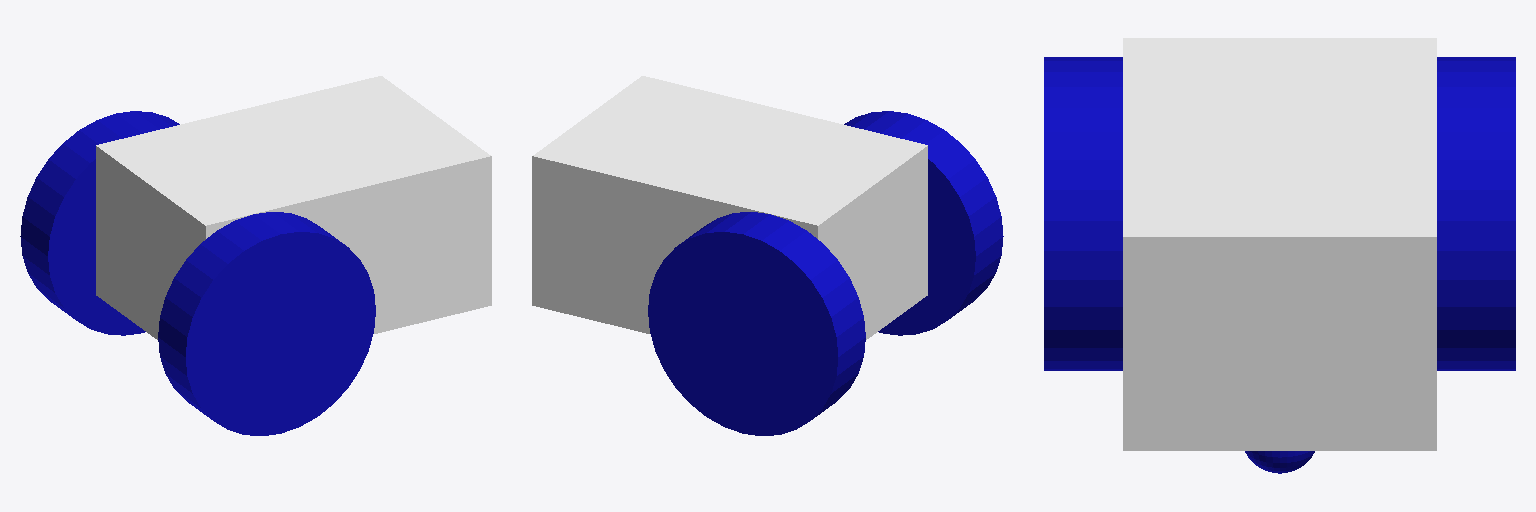
The robot description file, URDF, robot "gz_example_robot":
<robot name="gz_example_robot">

  <!-- LINKS -->
  <link name="base_link">
    <visual>
      <geometry>
        <box size="0.24 0.16 0.12"/>
      </geometry>
      <origin rpy="0 0 0" xyz="0.08 0 0"/>
      <material name="white">
        <color rgba="1 1 1 1"/>
      </material>
    </visual>
  </link>

  <link name="left_wheel">
    <visual>
      <geometry>
        <cylinder length="0.04" radius="0.08" />/>
      </geometry>
      <origin rpy="0 0 0" xyz="0 0 0.02"/>
      <material name="blue">
        <color rgba="0.1 0.1 0.8 1"/>
      </material>
    </visual>
  </link>

  <link name="right_wheel">
    <visual>
      <geometry>
        <cylinder length="0.04" radius="0.08" />/>
      </geometry>
      <origin rpy="0 0 0" xyz="0 0 -0.02"/>
      <material name="blue">
        <color rgba="0.1 0.1 0.8 1"/>
      </material>
    </visual>
  </link>

  <link name="front_wheel">
    <visual>
      <geometry>
        <sphere radius="0.02" />/>
      </geometry>
      <origin rpy="0 0 0" xyz="0 0 0"/>
      <material name="blue">
        <color rgba="0.1 0.1 0.8 1"/>
      </material>
    </visual>
  </link>

  <link name="chassis_link">
  <!-- Convenient place to reference sensors to -->
  </link>    

  <!-- JOINTS -->  
    <joint name="left_wheel_joint" type="continuous">
    <parent link="base_link"/>
    <child link="left_wheel"/>
    <origin xyz="0 0.08 -0.02" rpy="-1.5708 0 0"/>
    <axis xyz="0 0 1"/>
  </joint>

  <joint name="right_wheel_joint" type="continuous">
    <parent link="base_link"/>
    <child link="right_wheel"/>
    <origin xyz="0 -0.08 -0.02" rpy="-1.5708 0 0"/>
    <axis xyz="0 0 1"/>
  </joint>

  <joint name="front_wheel_joint" type="fixed">
    <parent link="base_link"/>
    <child link="front_wheel"/>
    <origin xyz="0.18 0 -0.06" rpy="0 0 0"/>
  </joint>

  <joint name="chassis_joint" type="fixed">
    <parent link="base_link"/>
    <child link="chassis_link"/>
    <origin xyz="0.08 0 0.06" rpy="0 0 0"/>
  </joint>

</robot>

--- Facts derived from the render (not from the file) ---
3 views of the same robot in one strip: view 1: azimuth 30°, elevation 25°; view 2: azimuth 150°, elevation 25°; view 3: azimuth 270°, elevation 25° (orthographic).
Robot: gz_example_robot — 5 links, 4 joints (2 continuous, 2 fixed); root link base_link; default pose: all joints at 0.
Visible links, largest first — view 1: base_link, right_wheel, left_wheel; view 2: base_link, left_wheel, right_wheel; view 3: base_link, left_wheel, right_wheel, front_wheel.
Boxes of the visible links, bbox=[...] form: base_link: bbox=[96, 76, 491, 339]; right_wheel: bbox=[158, 212, 375, 435]; left_wheel: bbox=[20, 111, 179, 335]; base_link: bbox=[532, 76, 927, 339]; left_wheel: bbox=[648, 212, 865, 435]; right_wheel: bbox=[844, 111, 1003, 335]; base_link: bbox=[1123, 38, 1436, 450]; left_wheel: bbox=[1437, 57, 1515, 370]; right_wheel: bbox=[1044, 57, 1122, 370]; front_wheel: bbox=[1245, 451, 1314, 473].
Bounding box of the posed robot: 0.28 × 0.24 × 0.16 m (x, y, z).
Geometry: primitives only (box / cylinder / sphere), no mesh files.